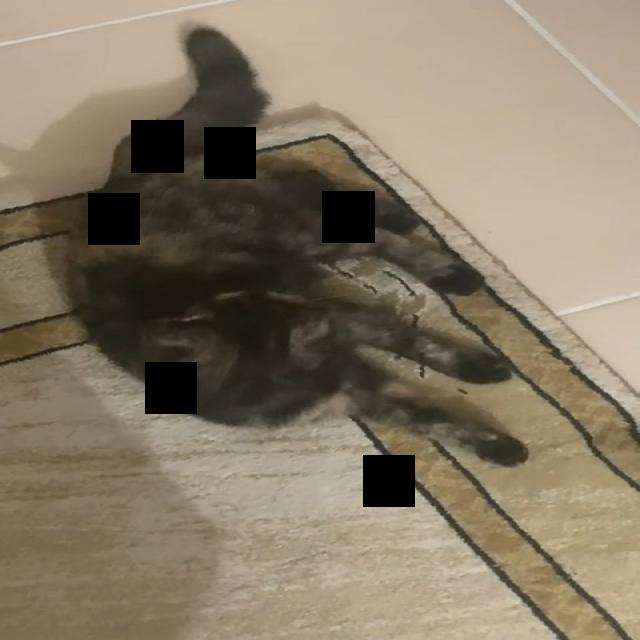authorized: (65, 20, 531, 469)
